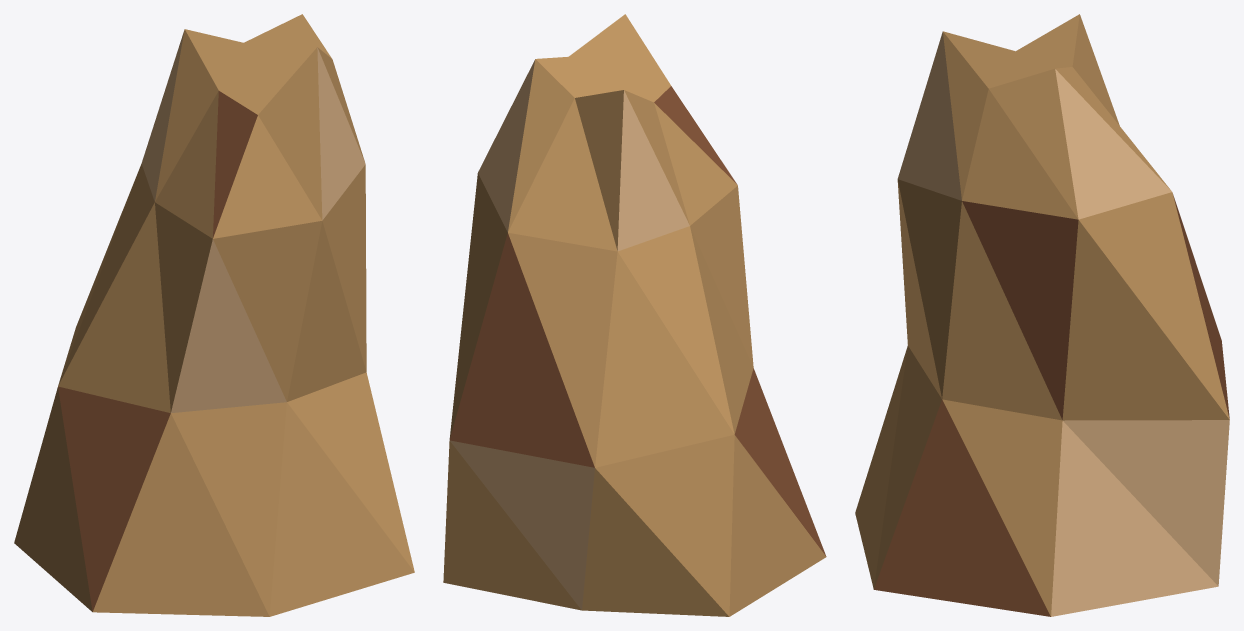
Rendered from Desert_Rock_1.glb.
3 renders of one model, left to right at view 1: azimuth 30°, elevation 25°; view 2: azimuth 150°, elevation 25°; view 3: azimuth 270°, elevation 25°, orthographic. The views are drawn at different scales.
Parts seen in each view (by area): view 1: Rock volume; view 2: Rock volume; view 3: Rock volume.
Part boxes in pixels (x1=…): Rock volume: x1=14, y1=14, x2=414, y2=616; Rock volume: x1=443, y1=14, x2=826, y2=616; Rock volume: x1=855, y1=14, x2=1229, y2=616.
Bounding box in the file's own units: 1.7 × 2.49 × 1.6.
